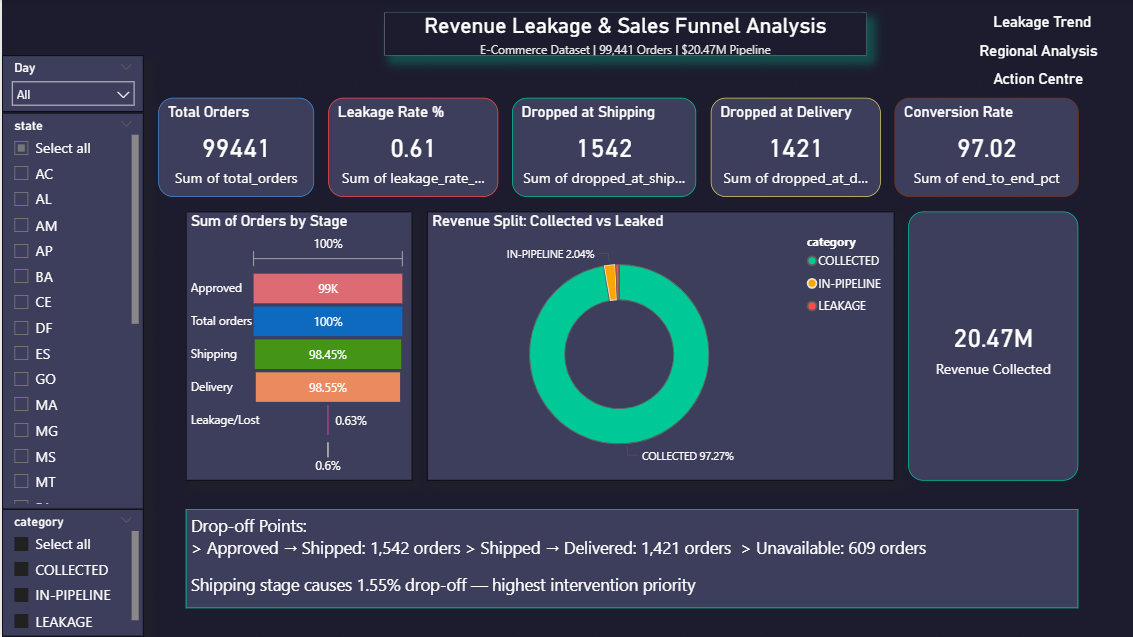

What the dashboard file says about the page in this screenshot:
{"tool":"powerbi","page":{"name":"Executive Summary","canvas":[1280,720],"ordinal":0},"visuals":[{"type":"card","title":"Conversion Rate","fields":{"Values":["Sum(funnel_stages_202604131959.end_to_end_pct)"]},"box":[1008,112,208,112],"z":0},{"type":"card","title":"Total Orders","fields":{"Values":["Sum(funnel_stages_202604131959.total_orders)"]},"box":[176,112,176,112],"z":1000},{"type":"card","title":"Leakage Rate %","fields":{"Values":["Sum(funnel_stages_202604131959.leakage_rate_pct)"]},"box":[368,112,192,112],"z":2000},{"type":"card","title":"Dropped at Shipping","fields":{"Values":["Sum(funnel_stages_202604131959.dropped_at_shipping)"]},"box":[576,112,208,112],"z":3000},{"type":"card","title":"Dropped at Delivery","fields":{"Values":["Sum(funnel_stages_202604131959.dropped_at_delivery)"]},"box":[800,112,192,112],"z":4000},{"type":"textbox","box":[208,576,1008,112],"z":5000},{"type":"donutChart","title":"Revenue Split: Collected vs Leaked","fields":{"Category":["revenue_summary_totals_202604132000.category"],"Y":["Sum(revenue_summary_totals_202604132000.revenue_potential)"]},"box":[480,240,528,304],"z":6000},{"type":"textbox","title":"Revenue Leakage & Sales Funnel Analysis","box":[432,16,544,48],"z":7000},{"type":"actionButton","title":"Regional Analysis","box":[1104,48,160,32],"z":8000},{"type":"actionButton","title":"Leakage Trend","box":[1120,16,128,32],"z":9000},{"type":"card","fields":{"Values":["Sum(revenue_summary_totals_202604132000.revenue_collected)"]},"box":[1024,240,192,304],"z":10000},{"type":"funnel","fields":{"Y":["Sum(funnel_visual.Orders)"],"Category":["funnel_visual.Stage"]},"box":[208,240,256,304],"z":11000},{"type":"slicer","fields":{"Values":["orders_payments_202604132001.month.Variation.Date Hierarchy.Day"]},"box":[0,64,160,64],"z":12000},{"type":"slicer","fields":{"Values":["orders_customers_payments_202604132146.state"]},"box":[0,128,160,448],"z":13000},{"type":"slicer","fields":{"Values":["revenue_summary_totals_202604132000.category"]},"box":[0,576,160,144],"z":14000},{"type":"actionButton","title":"Action Centre","box":[1120,80,112,16],"z":15000}]}

Visuals, with their boxes in screenshot pixels (x1, y1, x2, y2), scaled from the page's 1280x720 canvas onto the 1133x637 screenshot:
"Conversion Rate" card: 892 99 1076 198
"Total Orders" card: 156 99 312 198
"Leakage Rate %" card: 326 99 496 198
"Dropped at Shipping" card: 510 99 694 198
"Dropped at Delivery" card: 708 99 878 198
textbox: 184 510 1076 609
"Revenue Split: Collected vs Leaked" donutChart: 425 212 892 481
"Revenue Leakage & Sales Funnel Analysis" textbox: 382 14 864 57
"Regional Analysis" actionButton: 977 42 1119 71
"Leakage Trend" actionButton: 991 14 1105 42
card - Sum(revenue_summary_totals_202604132000.revenue_collected): 906 212 1076 481
funnel - Sum(funnel_visual.Orders) x funnel_visual.Stage: 184 212 411 481
slicer - orders_payments_202604132001.month.Variation.Date Hierarchy.Day: 0 57 142 113
slicer - orders_customers_payments_202604132146.state: 0 113 142 510
slicer - revenue_summary_totals_202604132000.category: 0 510 142 636
"Action Centre" actionButton: 991 71 1091 85
